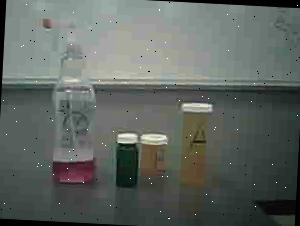Bottle A: (168, 94, 224, 198)
Bottle B: (136, 123, 172, 189)
Bottle C: (110, 127, 144, 199)
hazard: (28, 11, 110, 194)
